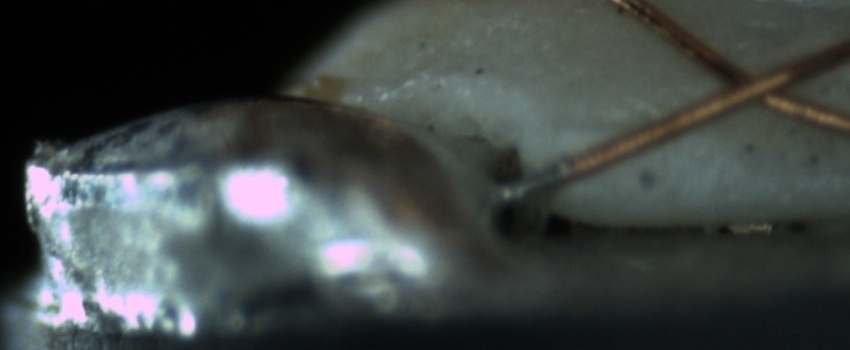CL: (695, 36, 827, 120)
DL: (541, 94, 680, 155)
TS: (499, 163, 572, 202)
